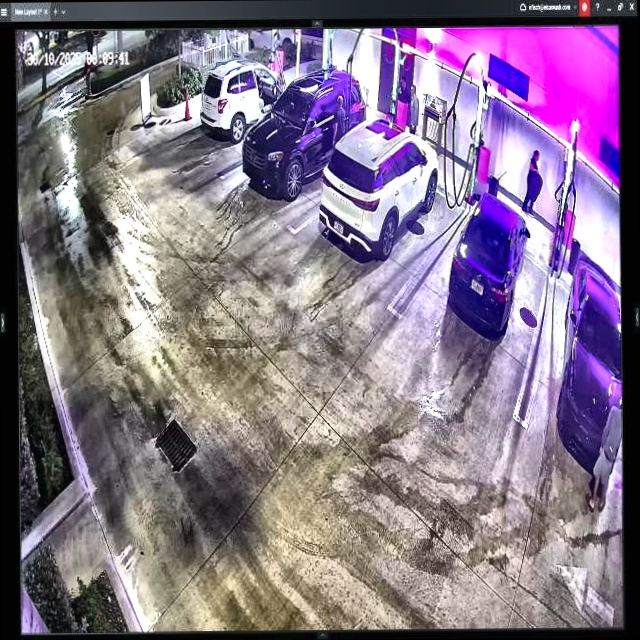Car: (242, 64, 366, 199), (319, 118, 439, 256), (448, 184, 531, 338)
